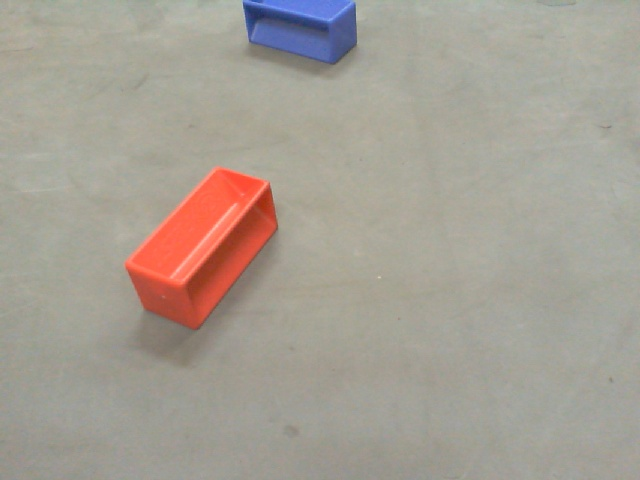BlueSample: (241, 1, 359, 66)
RedSample: (122, 164, 281, 334)
